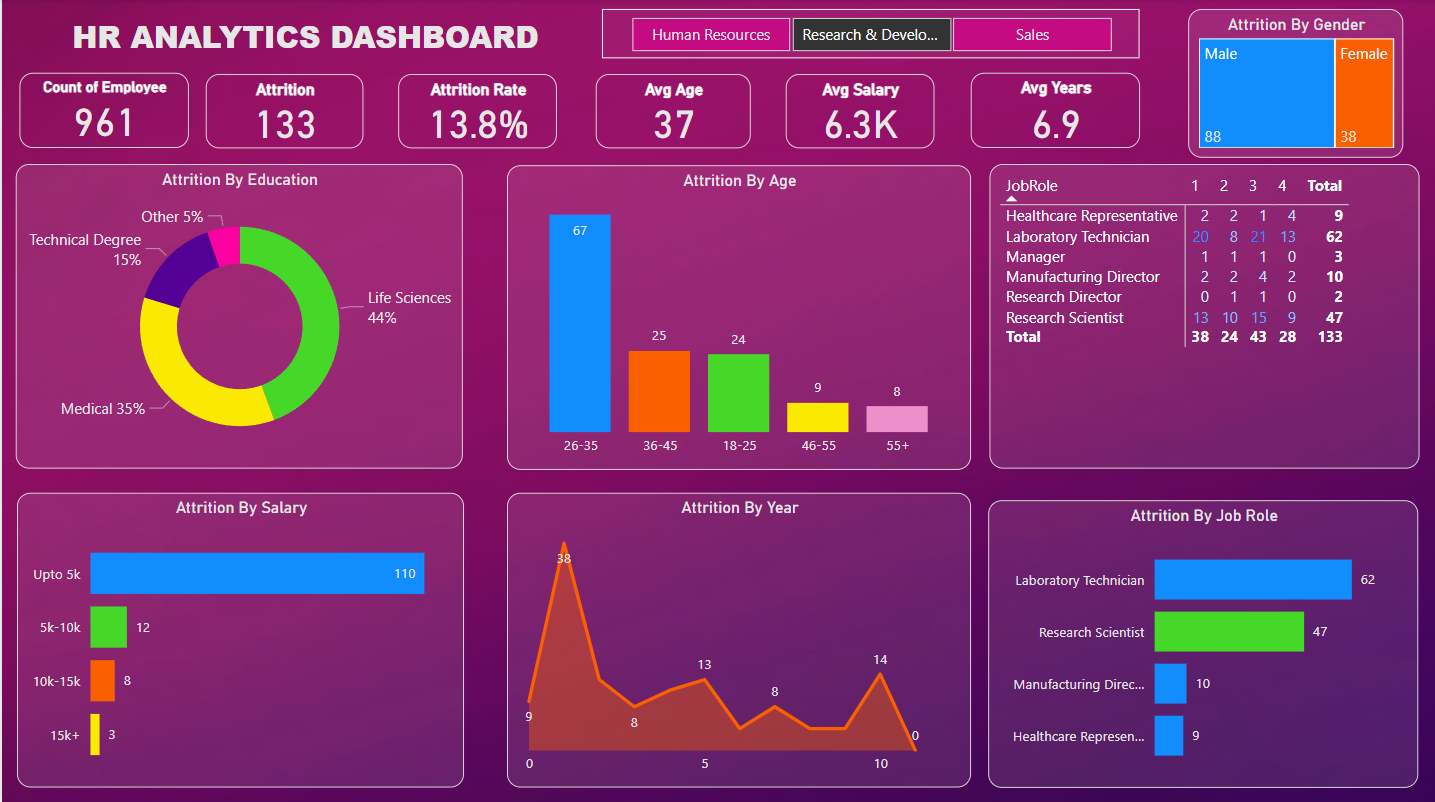

Layout of this report page (visuals, bound fields, positions):
{"tool":"powerbi","page":{"name":"Page 1","canvas":[1280,720],"ordinal":0},"visuals":[{"type":"card","title":"Count of Employee","fields":{"Values":["CountNonNull(HR_Analytics.EmpID)"]},"box":[15.1,66.3,151.2,67.4],"z":0},{"type":"card","title":"Attrition","fields":{"Values":["Sum(HR_Analytics.AttritionCount)"]},"box":[181.4,67.4,140.7,66.3],"z":1000},{"type":"card","title":"Attrition Rate","fields":{"Values":["HR_Analytics.AttritionRate"]},"box":[353.5,67.4,141.9,66.3],"z":2000},{"type":"card","title":"Avg Age","fields":{"Values":["Avg(HR_Analytics.Age)"]},"box":[530.2,67.4,138.4,66.3],"z":3000},{"type":"card","title":"Avg Salary","fields":{"Values":["Avg(HR_Analytics.MonthlyIncome)"]},"box":[700,67.4,132.6,66.3],"z":4000},{"type":"card","title":"Avg Years","fields":{"Values":["Avg(HR_Analytics.YearsAtCompany)"]},"box":[865.1,66.3,151.2,67.4],"z":5000},{"type":"donutChart","title":"Attrition By Education","fields":{"Category":["HR_Analytics.EducationField"],"Y":["Sum(HR_Analytics.AttritionCount)"]},"box":[12.8,147.7,398.8,272.1],"z":6000},{"type":"columnChart","title":"Attrition By Age","fields":{"Category":["HR_Analytics.AgeGroup"],"Y":["Sum(HR_Analytics.AttritionCount)"]},"box":[451.5,148.2,414.4,271.7],"z":7000},{"type":"pivotTable","fields":{"Rows":["HR_Analytics.JobRole"],"Columns":["HR_Analytics.JobSatisfaction"],"Values":["Sum(HR_Analytics.AttritionCount)"]},"box":[881.4,147.7,383.7,272.1],"z":8000},{"type":"barChart","title":"Attrition By Salary","fields":{"Category":["HR_Analytics.SalarySlab"],"Y":["Sum(HR_Analytics.AttritionCount)"]},"box":[13.7,440.5,399.3,263.5],"z":9000},{"type":"barChart","title":"Attrition By Job Role","fields":{"Category":["HR_Analytics.JobRole"],"Y":["Sum(HR_Analytics.AttritionCount)"]},"box":[881,447.3,384.2,256.6],"z":10000},{"type":"areaChart","title":"Attrition By Year","fields":{"Category":["HR_Analytics.YearsAtCompany"],"Y":["Sum(HR_Analytics.AttritionCount)"]},"box":[451.5,440.5,414.4,263.5],"z":11000},{"type":"treemap","title":"Attrition By Gender","fields":{"Group":["HR_Analytics.Gender"],"Values":["Sum(HR_Analytics.AttritionCount)"]},"box":[1059.3,9.3,191.9,132.6],"z":12000},{"type":"slicer","fields":{"Values":["HR_Analytics.Department"]},"box":[536,9.3,480.2,44.2],"z":13000},{"type":"textbox","box":[12.8,9.3,517.4,57],"z":14000}]}

Visuals, with their boxes in screenshot pixels (x1, y1, x2, y2), scaled from the page's 1280x720 canvas onto the 1435x802 screenshot:
"Count of Employee" card: <region>17, 74, 186, 149</region>
"Attrition" card: <region>203, 75, 361, 149</region>
"Attrition Rate" card: <region>396, 75, 555, 149</region>
"Avg Age" card: <region>594, 75, 750, 149</region>
"Avg Salary" card: <region>785, 75, 933, 149</region>
"Avg Years" card: <region>970, 74, 1139, 149</region>
"Attrition By Education" donutChart: <region>14, 165, 461, 468</region>
"Attrition By Age" columnChart: <region>506, 165, 971, 468</region>
pivotTable - HR_Analytics.JobRole x HR_Analytics.JobSatisfaction: <region>988, 165, 1418, 468</region>
"Attrition By Salary" barChart: <region>15, 491, 463, 784</region>
"Attrition By Job Role" barChart: <region>988, 498, 1418, 784</region>
"Attrition By Year" areaChart: <region>506, 491, 971, 784</region>
"Attrition By Gender" treemap: <region>1188, 10, 1403, 158</region>
slicer - HR_Analytics.Department: <region>601, 10, 1139, 60</region>
textbox: <region>14, 10, 594, 74</region>
